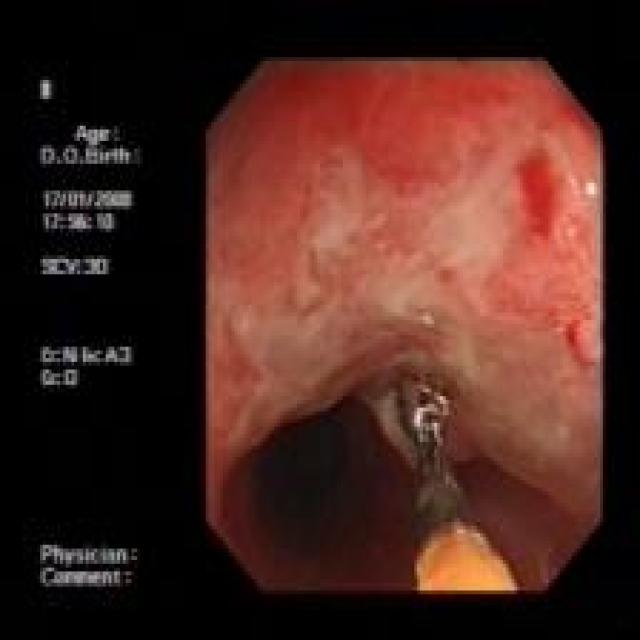blur: (206, 58, 602, 592), (398, 372, 517, 591)
color misalignment: (40, 80, 142, 591)
contrast: (219, 393, 413, 590), (451, 410, 598, 592)
instrument: (395, 368, 518, 591)
specularity: (582, 176, 597, 199), (411, 404, 422, 430)
